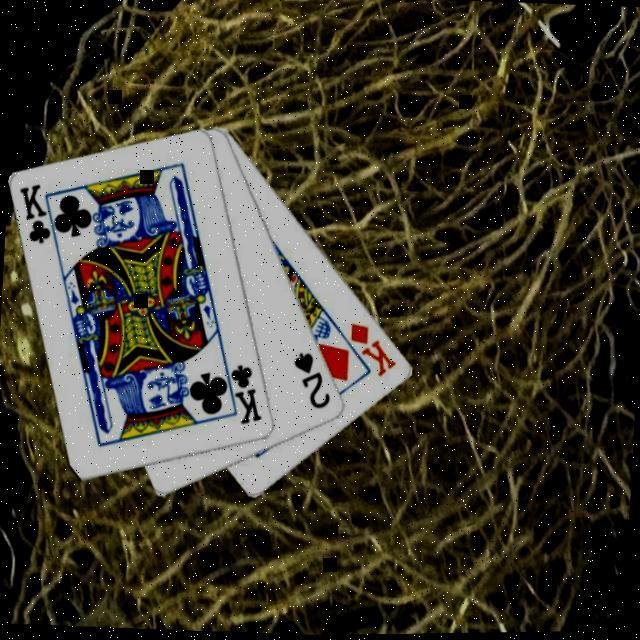2S: (286, 350, 334, 416)
KC: (12, 182, 64, 253), (216, 361, 265, 430)
KD: (343, 320, 399, 384)
